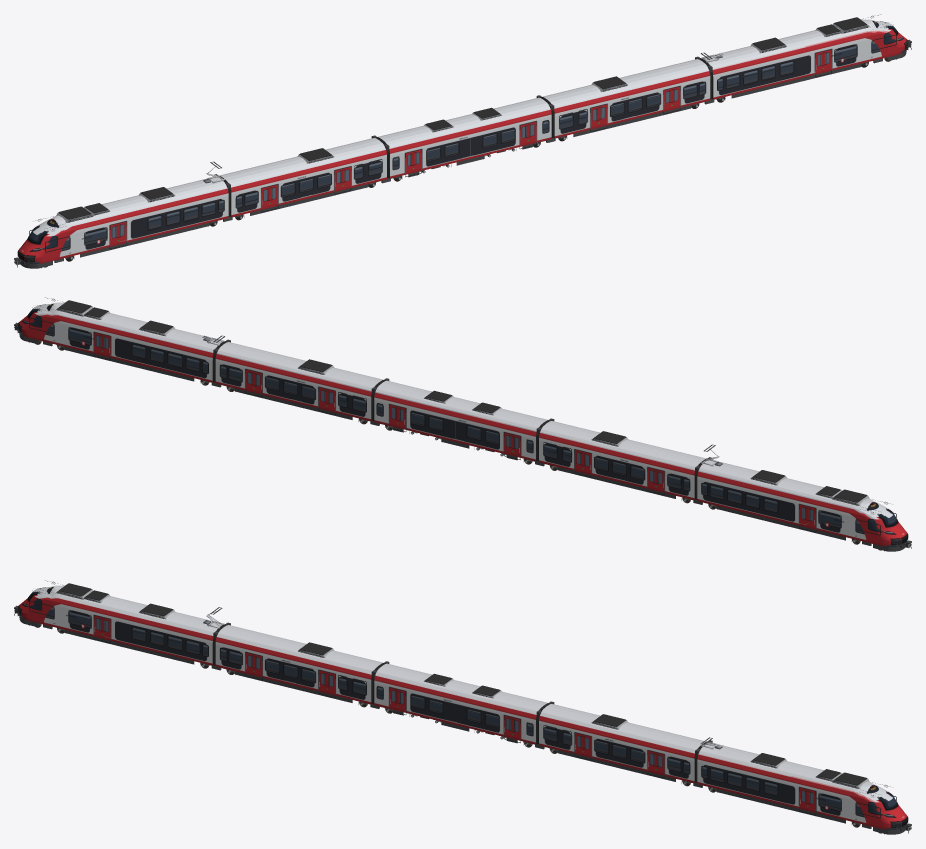
The model's file is ELFKW.glb.
3 renders of one model, top to bottom at view 1: azimuth 30°, elevation 25°; view 2: azimuth 150°, elevation 25°; view 3: azimuth 330°, elevation 25°, orthographic.
Visible parts, largest first — view 1: FL_czlon1, FL_czlon5, FL_czlon3, FL_czlon4, FL_czlon2, FL_guma, FL_fartuch, FL_ryfl, FL_dach, FL_inox; view 2: FL_czlon1, FL_czlon5, FL_czlon3, FL_czlon4, FL_czlon2, FL_guma, FL_fartuch, FL_ryfl, FL_dach, FL_inox; view 3: FL_czlon5, FL_czlon1, FL_czlon3, FL_czlon2, FL_czlon4, FL_guma, FL_fartuch, FL_ryfl, FL_dach, FL_inox.
Boxes of the visible parts, bbox=[...] form: FL_czlon1: bbox=[17, 177, 228, 263]; FL_czlon5: bbox=[705, 19, 908, 99]; FL_czlon3: bbox=[378, 97, 551, 178]; FL_czlon4: bbox=[542, 59, 710, 138]; FL_czlon2: bbox=[220, 138, 386, 217]; FL_guma: bbox=[15, 34, 911, 267]; FL_fartuch: bbox=[20, 50, 906, 268]; FL_ryfl: bbox=[59, 17, 866, 219]; FL_dach: bbox=[58, 23, 867, 222]; FL_inox: bbox=[38, 15, 887, 231]; FL_czlon1: bbox=[697, 460, 908, 546]; FL_czlon5: bbox=[17, 302, 220, 382]; FL_czlon3: bbox=[374, 380, 547, 461]; FL_czlon4: bbox=[215, 342, 383, 421]; FL_czlon2: bbox=[539, 421, 705, 500]; FL_guma: bbox=[29, 317, 911, 548]; FL_fartuch: bbox=[19, 333, 905, 551]; FL_ryfl: bbox=[59, 300, 866, 502]; FL_dach: bbox=[58, 306, 867, 505]; FL_inox: bbox=[38, 298, 887, 514]; FL_czlon5: bbox=[697, 743, 908, 829]; FL_czlon1: bbox=[17, 585, 220, 665]; FL_czlon3: bbox=[374, 663, 547, 744]; FL_czlon2: bbox=[215, 625, 383, 704]; FL_czlon4: bbox=[539, 704, 705, 783]; FL_guma: bbox=[14, 600, 910, 833]; FL_fartuch: bbox=[19, 616, 905, 834]; FL_ryfl: bbox=[59, 583, 866, 785]; FL_dach: bbox=[58, 589, 867, 788]; FL_inox: bbox=[38, 581, 887, 797].
Bounding box in the file's own units: 93.04 × 5.6 × 2.98.
Materials: 25 (7 with a texture image).
